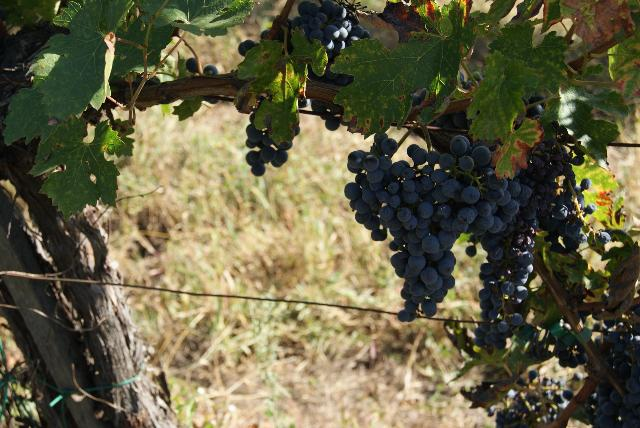grapes: (369, 135, 519, 321), (345, 132, 410, 225)
